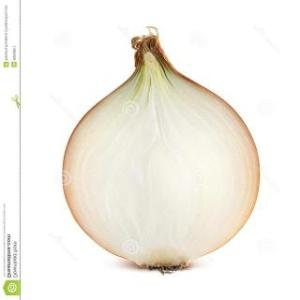onion: (62, 31, 262, 274)
